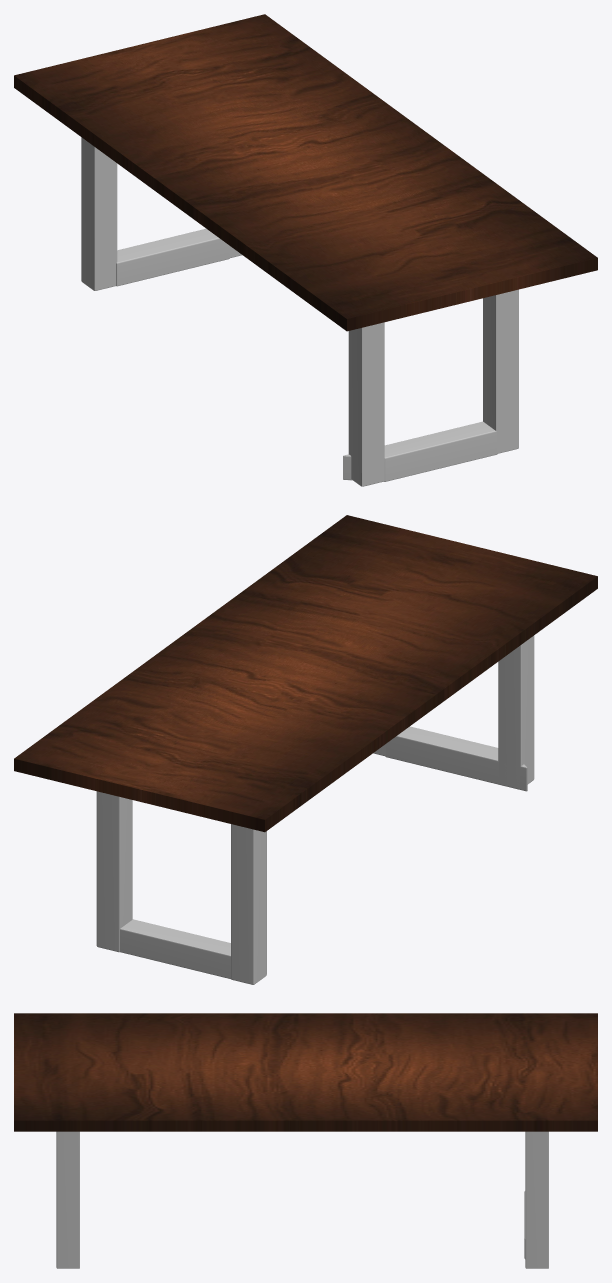
The model's file is desk for ring.fbx.
3 views of the same model, one above another, from view 1: azimuth 30°, elevation 25°; view 2: azimuth 150°, elevation 25°; view 3: azimuth 270°, elevation 25° (orthographic). The views are drawn at different scales.
Parts seen in each view (by area): view 1: polySurface711, polySurface706, polySurface705, polySurface707, polySurface710, polySurface708; view 2: polySurface711, polySurface707, polySurface709, polySurface706, polySurface710, polySurface708; view 3: polySurface711, polySurface705, polySurface709.
Boxes of the visible parts, left/top/right/bottom form: polySurface711: left=14, top=14, right=597, bottom=331; polySurface706: left=348, top=322, right=384, bottom=486; polySurface705: left=483, top=289, right=518, bottom=453; polySurface707: left=81, top=137, right=117, bottom=290; polySurface710: left=343, top=421, right=497, bottom=481; polySurface708: left=116, top=228, right=229, bottom=286; polySurface711: left=14, top=515, right=597, bottom=832; polySurface707: left=231, top=824, right=266, bottom=984; polySurface709: left=96, top=791, right=132, bottom=952; polySurface706: left=498, top=635, right=534, bottom=788; polySurface710: left=385, top=726, right=527, bottom=791; polySurface708: left=120, top=919, right=230, bottom=978; polySurface711: left=14, top=1013, right=597, bottom=1131; polySurface705: left=56, top=1131, right=79, bottom=1268; polySurface709: left=525, top=1131, right=548, bottom=1268.
Size of the model in its own units: 52.77 by 39.44 by 121.
